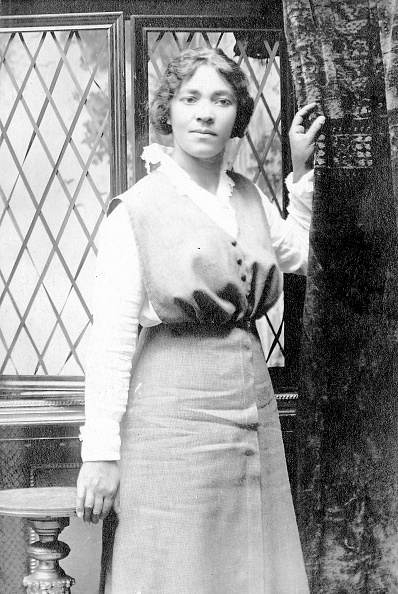em pe: (75, 33, 302, 592)
